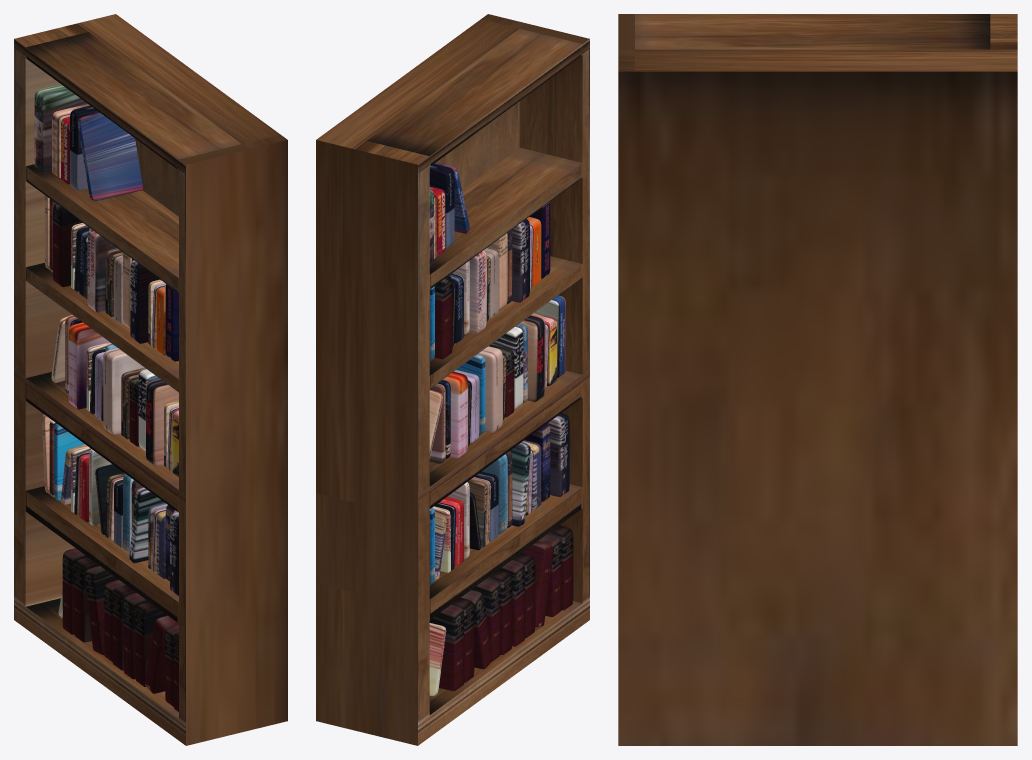
File: bookshelf.glb
The picture shows the model from 3 angles, left to right: view 1: azimuth 30°, elevation 25°; view 2: azimuth 150°, elevation 25°; view 3: azimuth 270°, elevation 25°; orthographic projection. The views are drawn at different scales.
Parts seen in each view (by area): view 1: Bookshelf_0; view 2: Bookshelf_0; view 3: Bookshelf_0.
Boxes of the visible parts, box(x1,y1,x2,y2) form: Bookshelf_0: box(14, 14, 287, 745); Bookshelf_0: box(316, 14, 589, 745); Bookshelf_0: box(618, 14, 1017, 745).
Bounding box in the file's own units: 0.2109 × 1.15 × 0.617.
2 materials, 2 textured.
